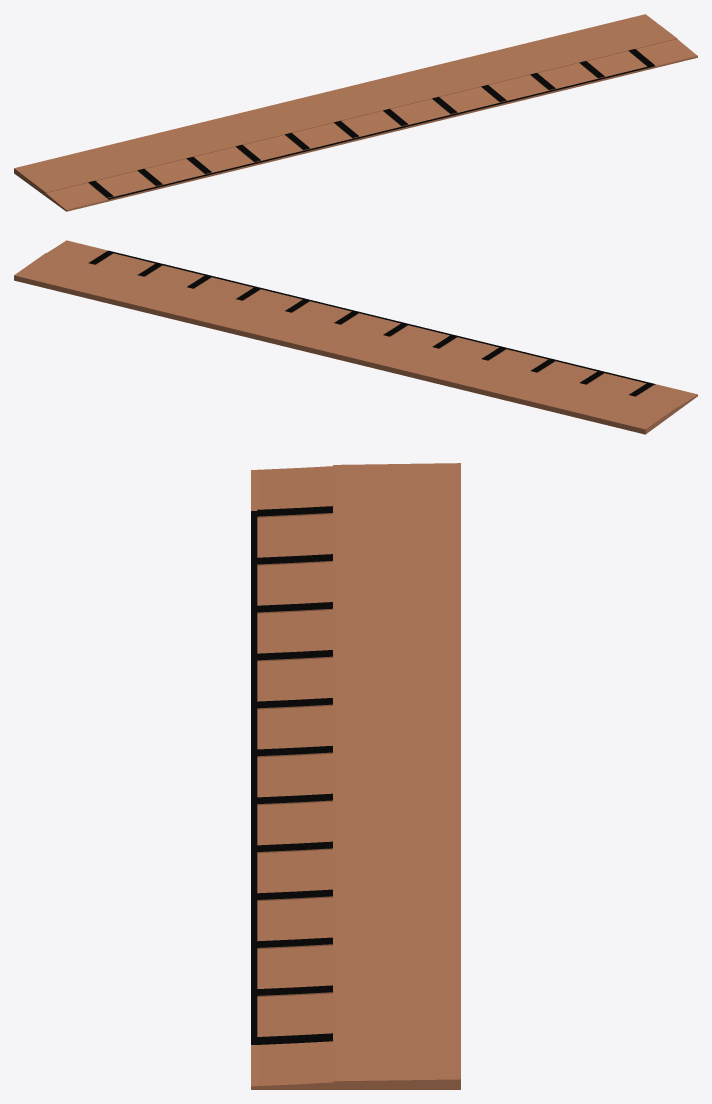
File: Ruler.fbx
3 views of the same model, one above another, from view 1: azimuth 30°, elevation 25°; view 2: azimuth 150°, elevation 25°; view 3: azimuth 270°, elevation 25° (orthographic). The views are drawn at different scales.
Visible parts, largest first — view 1: Plane; view 2: Plane; view 3: Plane.
Boxes of the visible parts, box(x1,y1,x2,y2) form: Plane: box(14, 14, 697, 211); Plane: box(14, 240, 697, 434); Plane: box(251, 463, 460, 1089).
Bounding box in the file's own units: 103 × 716 × 5.64.
